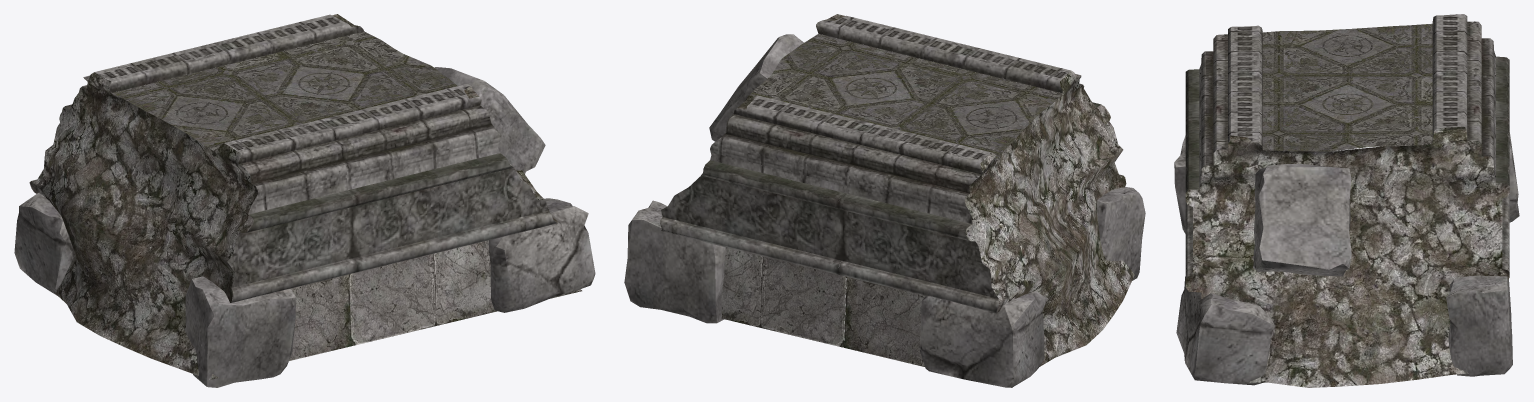
Rendered from eso_ss1_column4_3-transformed.glb.
The picture shows the model from 3 angles, left to right: view 1: azimuth 30°, elevation 25°; view 2: azimuth 150°, elevation 25°; view 3: azimuth 270°, elevation 25°; orthographic projection. The views are drawn at different scales.
Visible parts, largest first — view 1: default; view 2: default; view 3: default.
Part boxes in pixels (<box>): default: <box>14,14,595,387</box>; default: <box>624,14,1145,387</box>; default: <box>1174,14,1519,387</box>.
Bounding box in the file's own units: 8.56 × 4.08 × 6.11.
5 materials, 5 textured.
